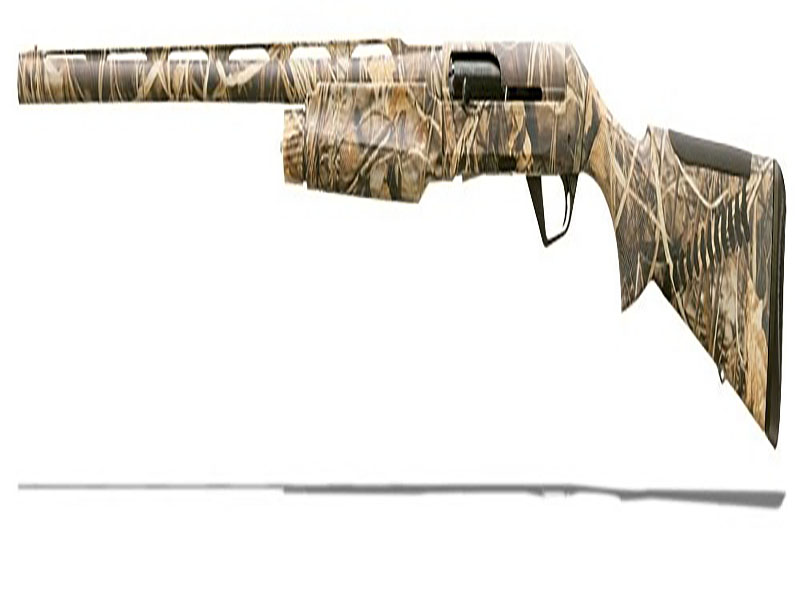fucile: (15, 21, 786, 454)
